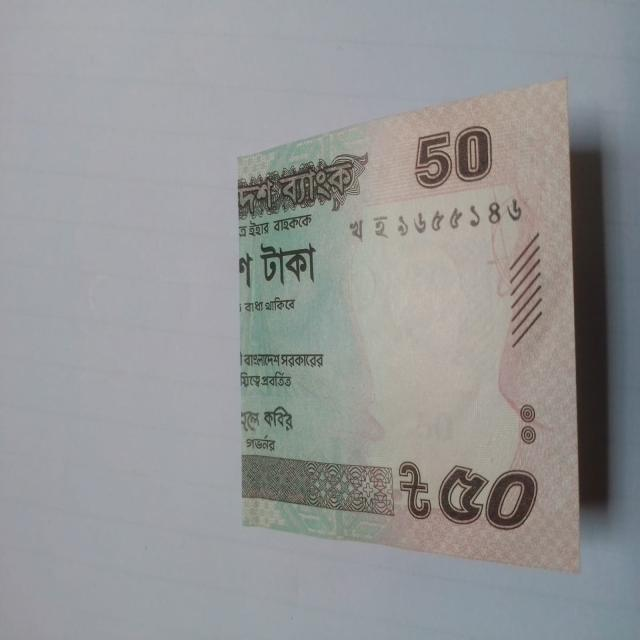Taka: (233, 109, 578, 566)
